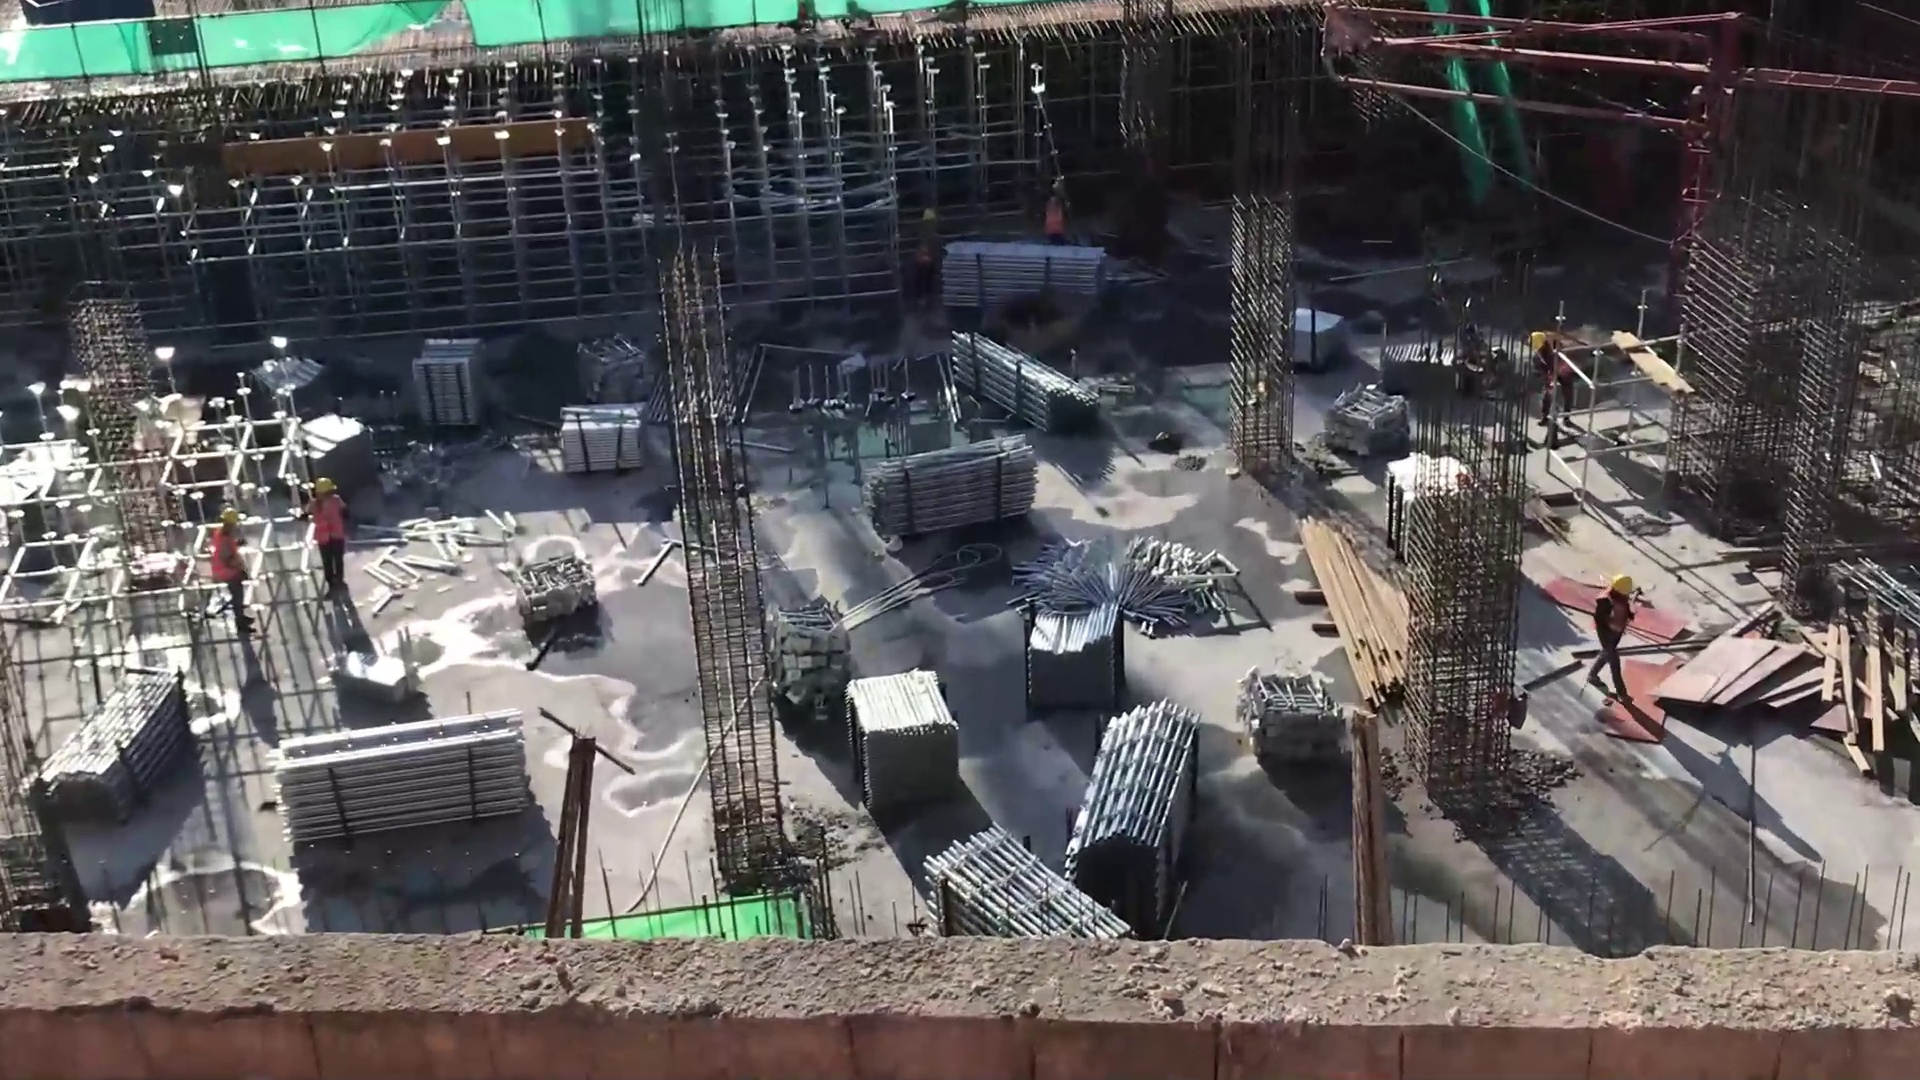board: (1666, 630, 1827, 724)
helmet: (1609, 576, 1638, 596), (313, 478, 340, 490), (217, 507, 239, 522), (1530, 333, 1551, 350)
person: (300, 474, 363, 619), (200, 506, 263, 635), (1586, 573, 1643, 696), (1531, 335, 1574, 432), (913, 208, 947, 300), (1039, 172, 1074, 251)
scaffold: (278, 707, 538, 827), (1076, 697, 1192, 908), (928, 820, 1117, 942), (35, 665, 182, 808), (850, 664, 963, 806), (871, 449, 1047, 527), (956, 331, 1105, 419), (1023, 592, 1121, 711), (948, 238, 1120, 304), (409, 337, 489, 433), (556, 404, 642, 473)
vest: (306, 498, 350, 549), (213, 533, 247, 583)
wood: (1302, 516, 1416, 700), (1836, 608, 1920, 777)
